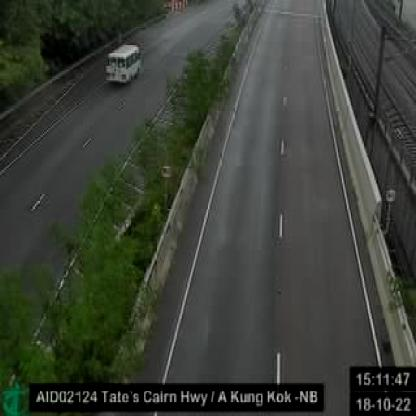Car: (106, 44, 144, 85)
